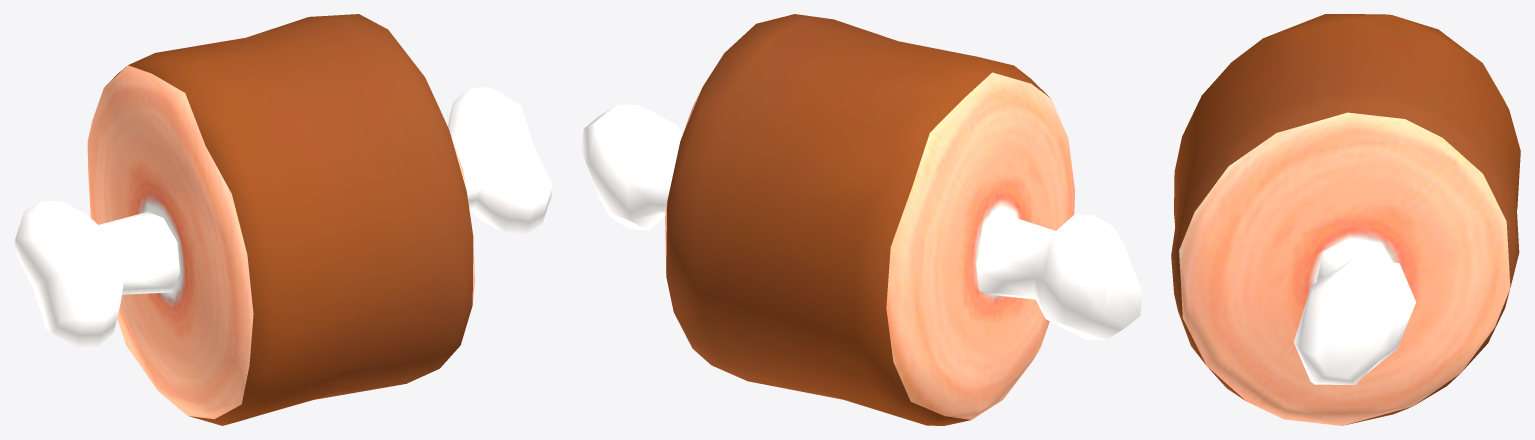
The model's file is brown_meat.glb.
The picture shows the model from 3 angles, left to right: view 1: azimuth 30°, elevation 25°; view 2: azimuth 150°, elevation 25°; view 3: azimuth 270°, elevation 25°; orthographic projection. The views are drawn at different scales.
Parts seen in each view (by area): view 1: brown_meat; view 2: brown_meat; view 3: brown_meat.
Part boxes in pixels (<box>): brown_meat: <box>14,14,552,425</box>; brown_meat: <box>581,14,1142,425</box>; brown_meat: <box>1171,14,1520,425</box>.
Size of the model in its own units: 0.7946 by 0.4982 by 0.4862.
Materials: 1 (1 with a texture image).
